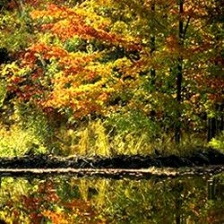neutral: (2, 3, 221, 219)
